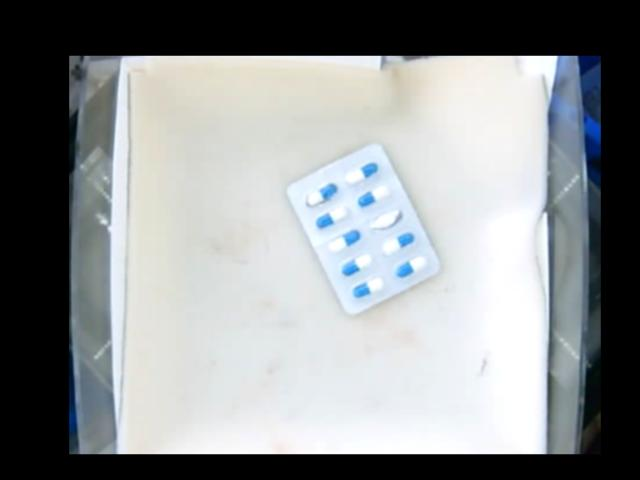Medicine: (284, 145, 440, 316)
